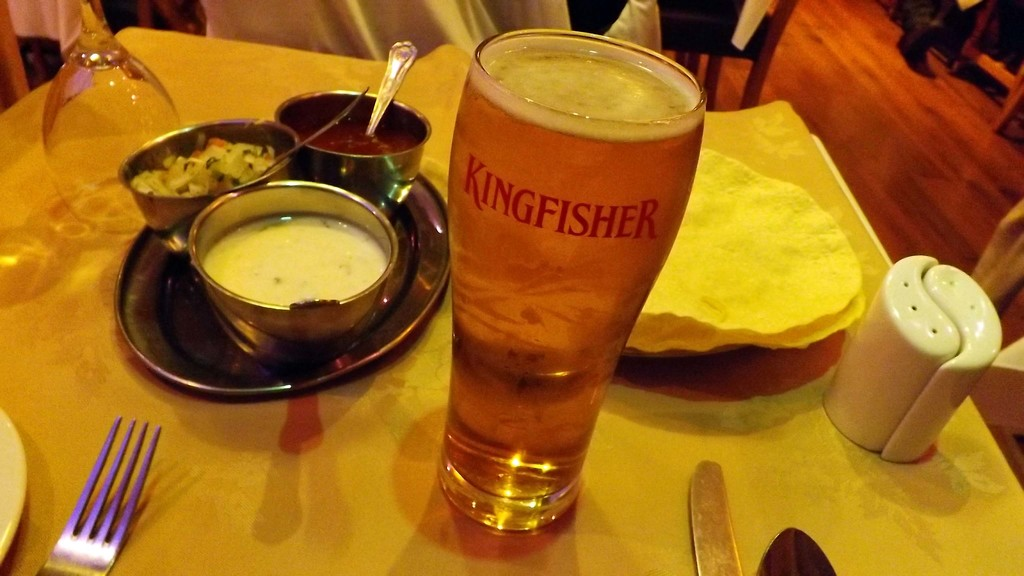Beer: (437, 28, 704, 526)
